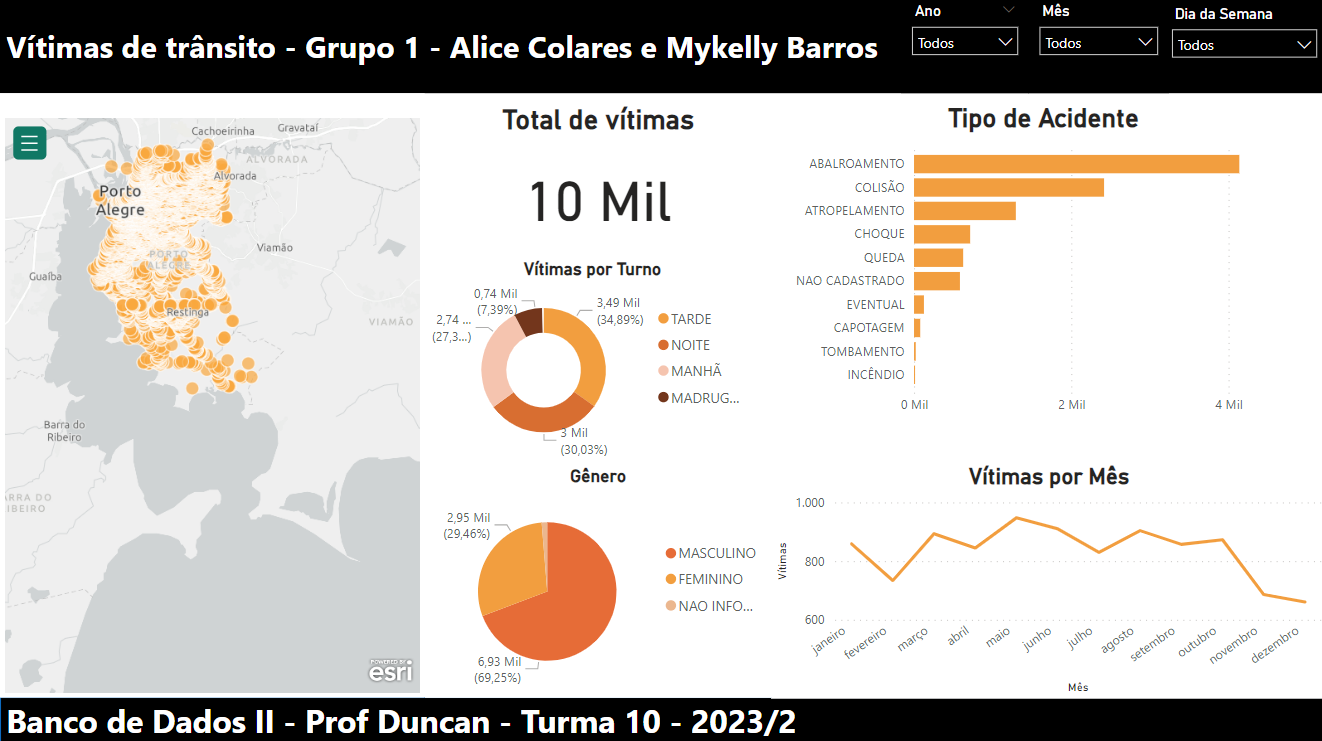

What the dashboard file says about the page in this screenshot:
{"tool":"powerbi","page":{"name":"Página 1","canvas":[1280,720],"ordinal":0},"visuals":[{"type":"shape","box":[0,0,1280.3,92.9],"z":0},{"type":"shape","box":[0,675.9,1280.3,44.5],"z":1},{"type":"cardVisual","title":"Total de vítimas","fields":{"Data":["cat_acidentes_vitimas.idacidente"]},"box":[410,102.5,334.3,149.8],"z":2},{"type":"textbox","box":[0,552.5,274.1,94.6],"z":4},{"type":"slicer","fields":{"Values":["cat_acidentes_vitimas.data.Variation.Hierarquia de datas.Ano"]},"box":[869.5,0,122.9,92.9],"z":5},{"type":"slicer","fields":{"Values":["cat_acidentes_vitimas.data.Variation.Hierarquia de datas.Mês"]},"box":[992.5,0,134.9,92.9],"z":6},{"type":"slicer","fields":{"Values":["cat_acidentes_vitimas.dia_sem"]},"box":[1119.9,3,160.4,88.5],"z":7},{"type":"barChart","title":"Tipo de Acidente","fields":{"Category":["cat_acidentes_vitimas.tipo_acid"],"Y":["cat_acidentes_vitimas.tipo_acid"]},"box":[733.2,102.5,547.1,323.2],"z":8},{"type":"lineChart","fields":{"Y":["cat_acidentes_vitimas.idacidente"],"Category":["cat_acidentes_vitimas.data.Variation.Hierarquia de datas.Mês"]},"box":[744.2,449.4,536.1,227.1],"z":9},{"type":"donutChart","title":" Vítimas por Turno","fields":{"Category":["cat_acidentes_vitimas.periododia"],"Y":["cat_acidentes_vitimas.data"]},"box":[410,252.3,323.2,197.1],"z":10},{"type":"pieChart","title":"Gênero","fields":{"Category":["cat_acidentes_vitimas.sexo"],"Y":["cat_acidentes_vitimas.sexo"]},"box":[410,452.5,334.3,223.9],"z":11},{"type":"esriVisual","title":"   ","fields":{"Latitude":["cat_acidentes_vitimas.latitude"],"Longitude":["cat_acidentes_vitimas.longitude"]},"box":[0,93,410,583.4],"z":12}]}

Visuals, with their boxes in screenshot pixels (x1, y1, x2, y2), scaled from the page's 1280x720 canvas onto the 1322x741 screenshot:
shape: bbox(0, 0, 1321, 96)
shape: bbox(0, 696, 1321, 740)
"Total de vítimas" cardVisual: bbox(423, 105, 769, 260)
textbox: bbox(0, 569, 283, 666)
slicer - cat_acidentes_vitimas.data.Variation.Hierarquia de datas.Ano: bbox(898, 0, 1025, 96)
slicer - cat_acidentes_vitimas.data.Variation.Hierarquia de datas.Mês: bbox(1025, 0, 1164, 96)
slicer - cat_acidentes_vitimas.dia_sem: bbox(1157, 3, 1321, 94)
"Tipo de Acidente" barChart: bbox(757, 105, 1321, 438)
lineChart - cat_acidentes_vitimas.idacidente x cat_acidentes_vitimas.data.Variation.Hierarquia de datas.Mês: bbox(769, 463, 1321, 696)
" Vítimas por Turno" donutChart: bbox(423, 260, 757, 463)
"Gênero" pieChart: bbox(423, 466, 769, 696)
"   " esriVisual: bbox(0, 96, 423, 696)
